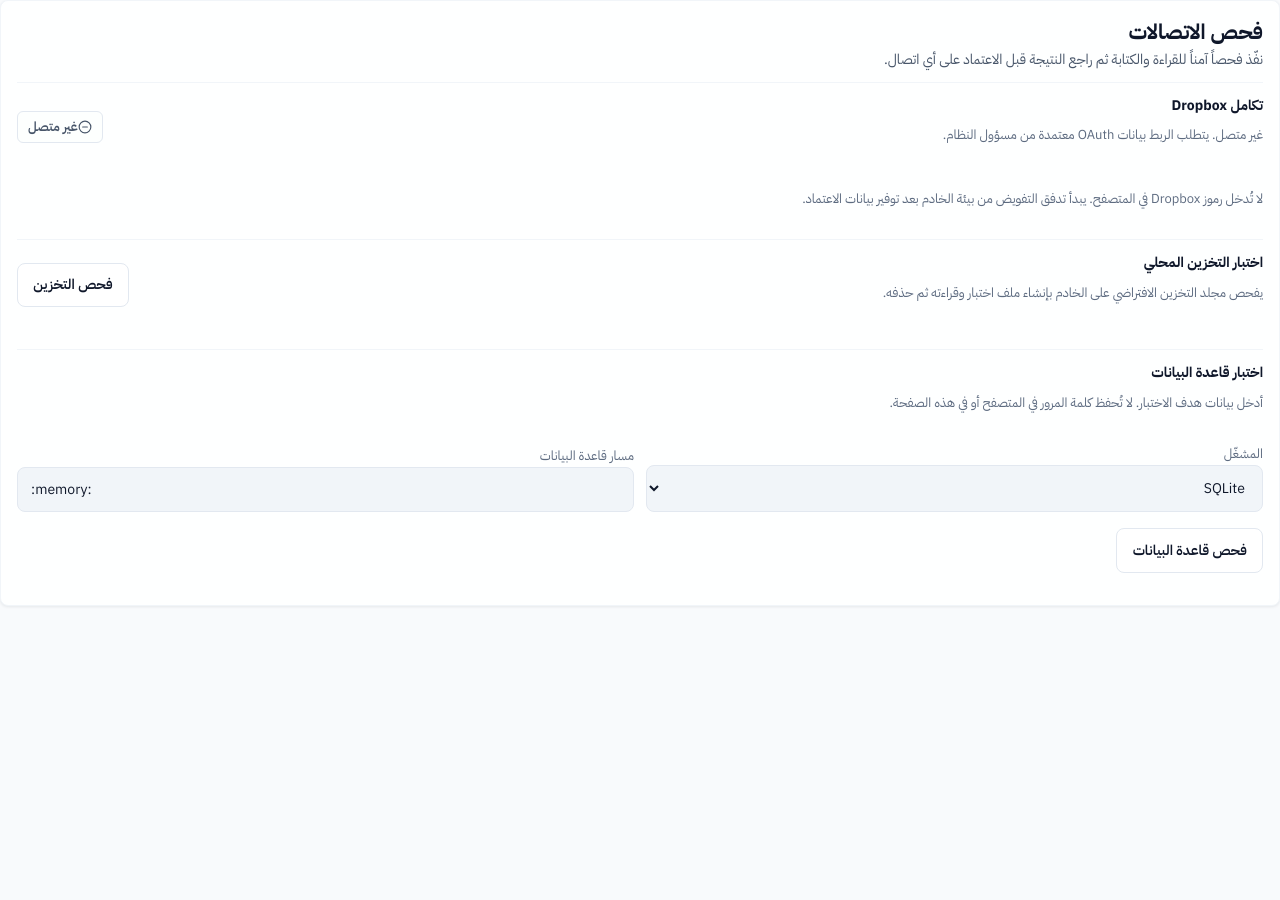
Test case: ConnectionTestingPanel › blocks the database test when no database name is provided
The width and height of the screenshot is (1280, 900).
Clear the field with placeholder ":memory: أو /path/to/database.sqlite" at (326, 490), box [17, 467, 634, 512]
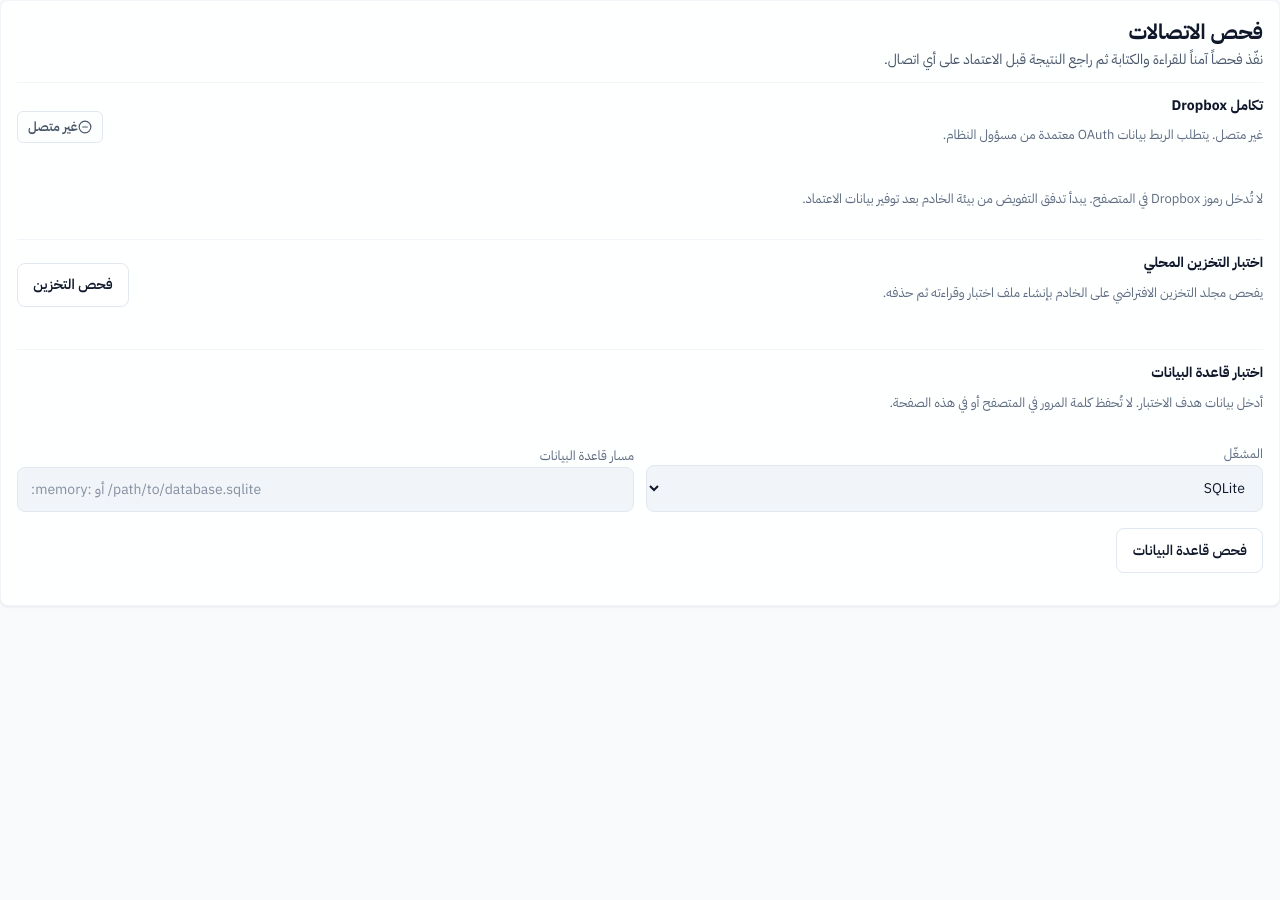
Click the button "فحص قاعدة البيانات" at (1190, 550), box [1116, 528, 1263, 573]
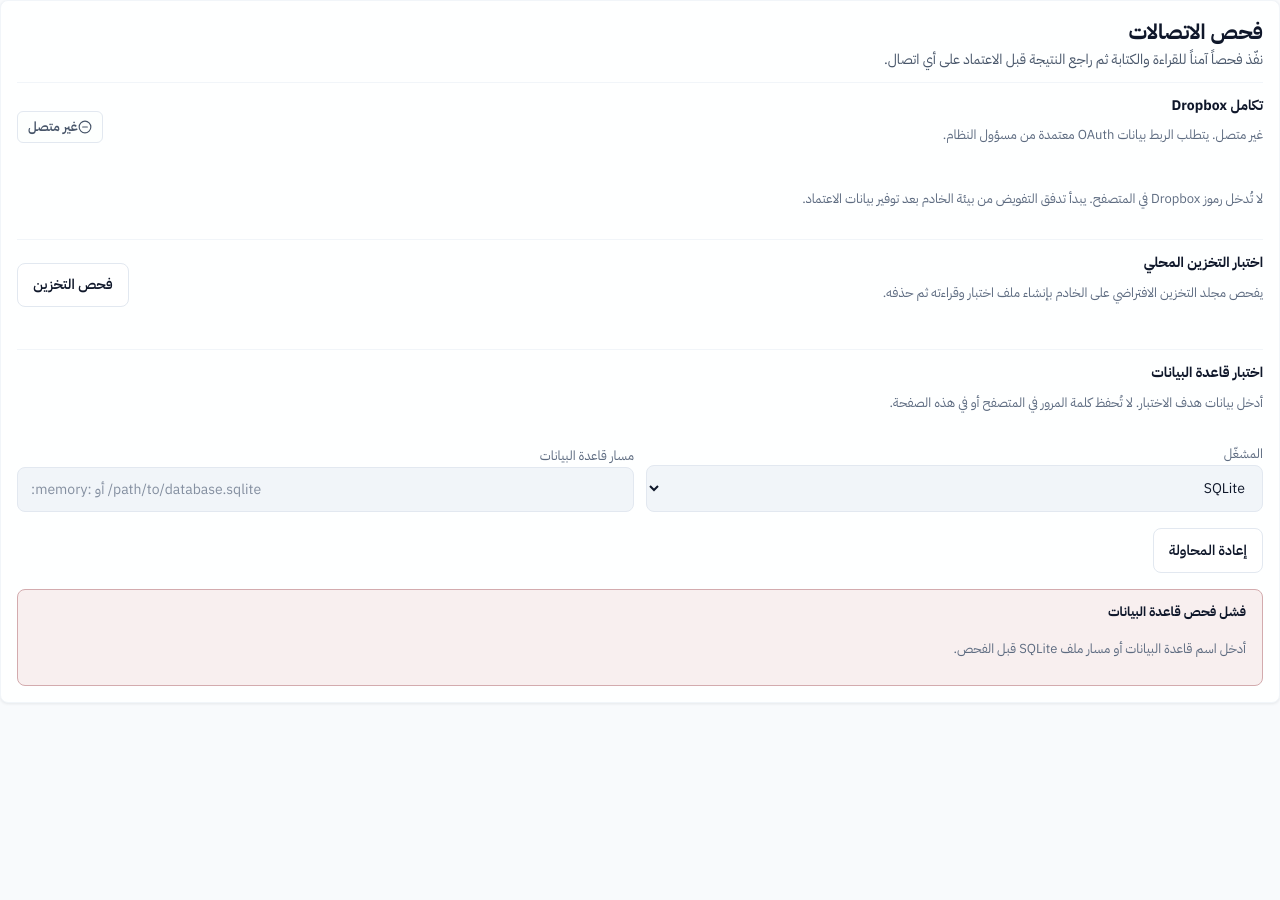
Now the text "أدخل اسم قاعدة البيانات أو مسار ملف SQLite قبل الفحص." is shown, box [953, 639, 1246, 658]
